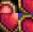heart: (0, 13, 18, 32), (0, 0, 18, 13)
